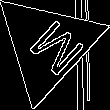M_SW: (14, 11, 81, 80)
